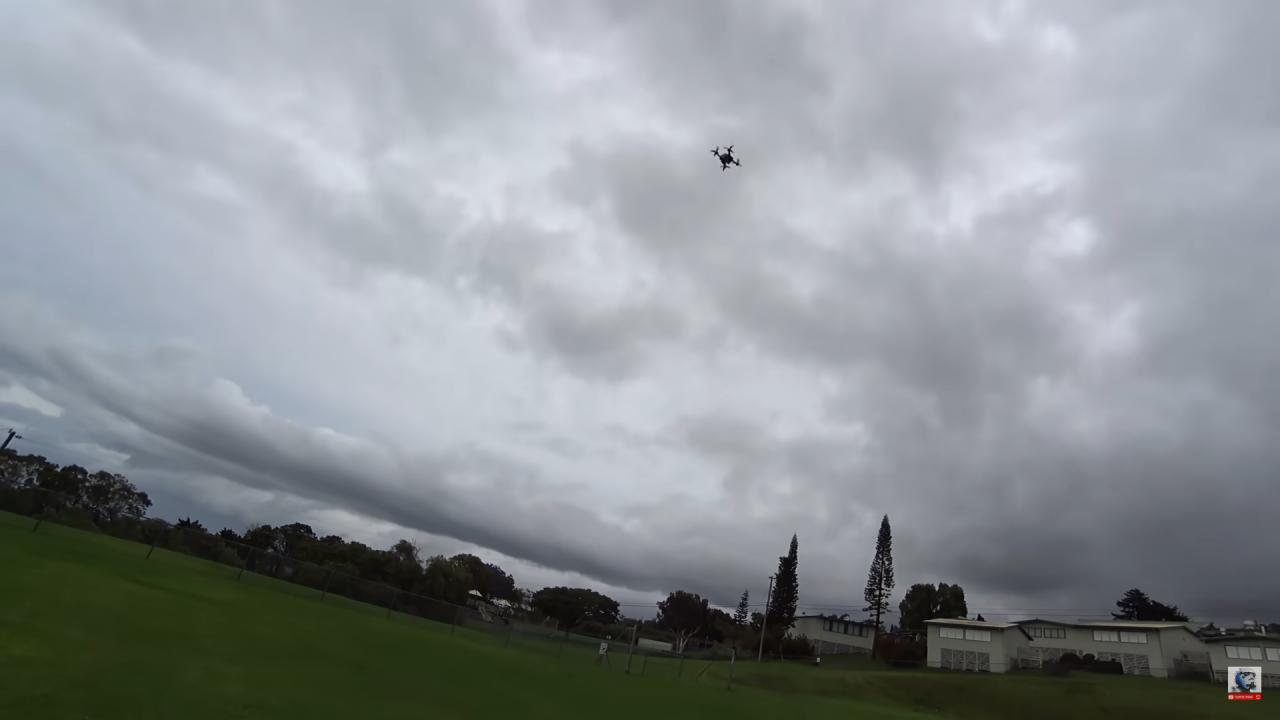Drone: (693, 128, 759, 185)
